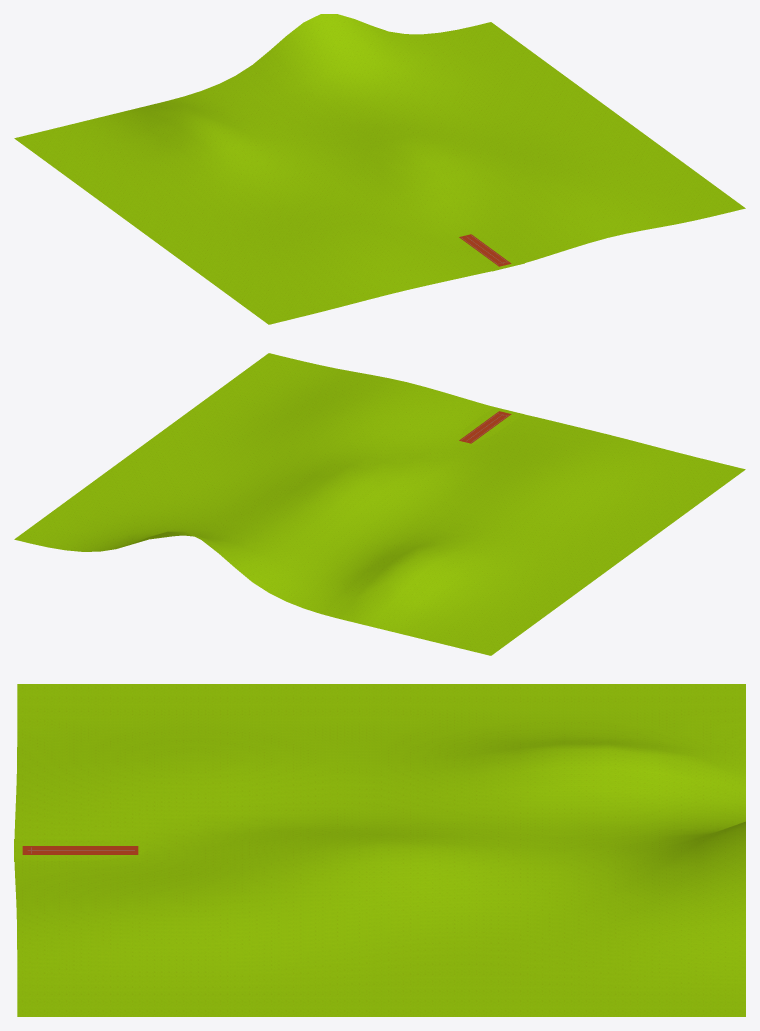
Rendered from Field.fbx.
3 renders of one model, top to bottom at view 1: azimuth 30°, elevation 25°; view 2: azimuth 150°, elevation 25°; view 3: azimuth 270°, elevation 25°, orthographic. The views are drawn at different scales.
Visible parts, largest first — view 1: Plane001; view 2: Plane001; view 3: Plane001.
Boxes of the visible parts, left/top/right/bottom form: Plane001: left=14, top=14, right=745, bottom=324; Plane001: left=14, top=353, right=745, bottom=655; Plane001: left=14, top=684, right=745, bottom=1016.
Size of the model in its own units: 2896 by 289 by 2691.
Materials: 3 (1 with a texture image).
